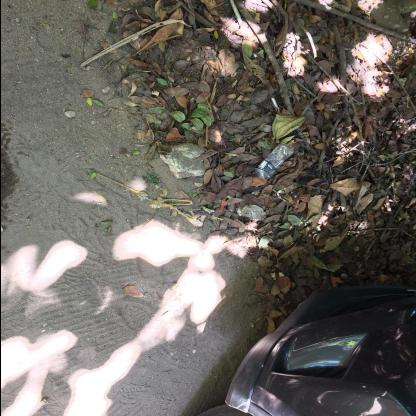plastik: (254, 143, 294, 181)
